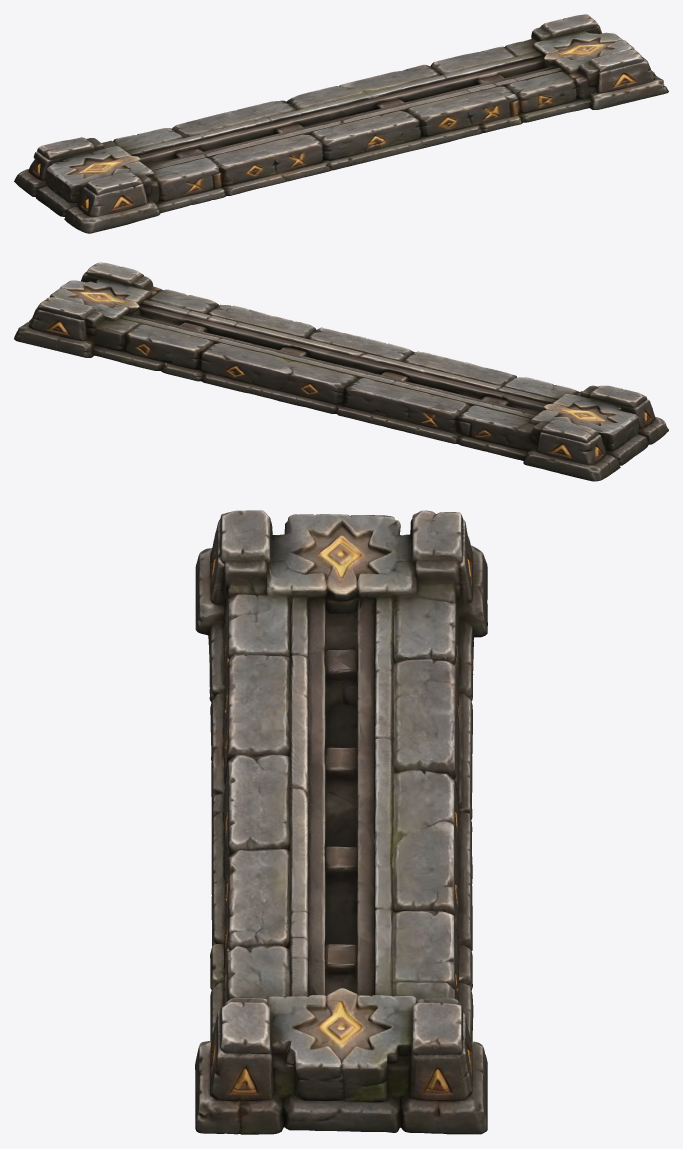
Rendered from RunicTrack.fbx.
3 renders of one model, top to bottom at view 1: azimuth 30°, elevation 25°; view 2: azimuth 150°, elevation 25°; view 3: azimuth 270°, elevation 25°, orthographic. The views are drawn at different scales.
Visible parts, largest first — view 1: RunicTrack; view 2: RunicTrack; view 3: RunicTrack.
Part boxes in pixels (x1,y1,x2,y2): RunicTrack: (14,14,668,233); RunicTrack: (14,262,668,481); RunicTrack: (195,510,487,1134).
Size of the model in its own units: 440 by 26 by 95.
Materials: 1 (1 with a texture image).
